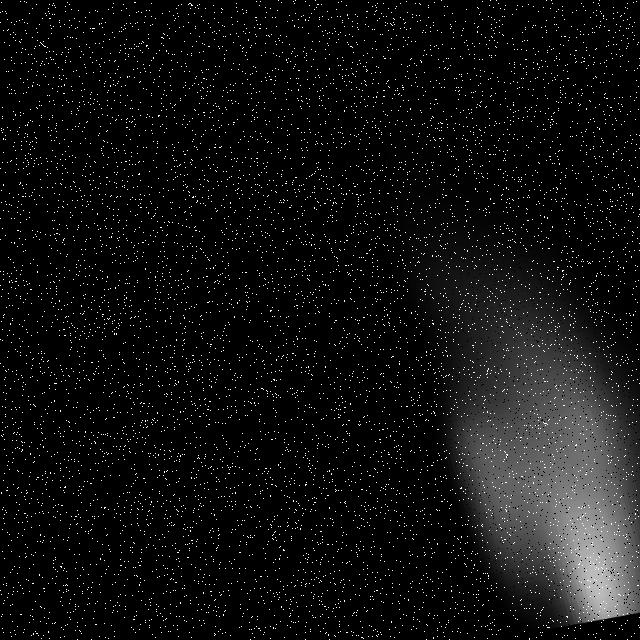person: (330, 99, 640, 640)
